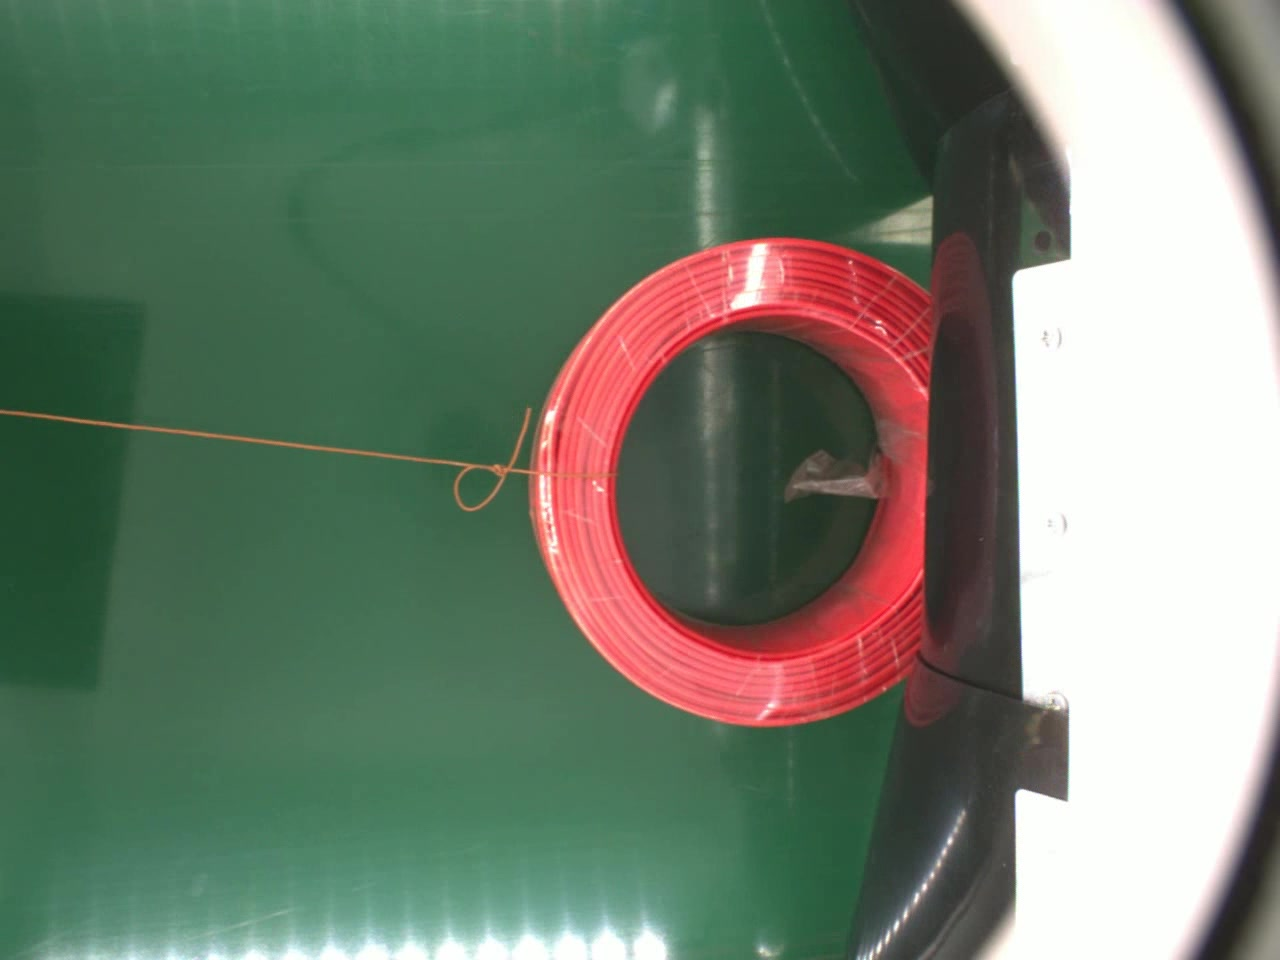red: (522, 234, 921, 726)
